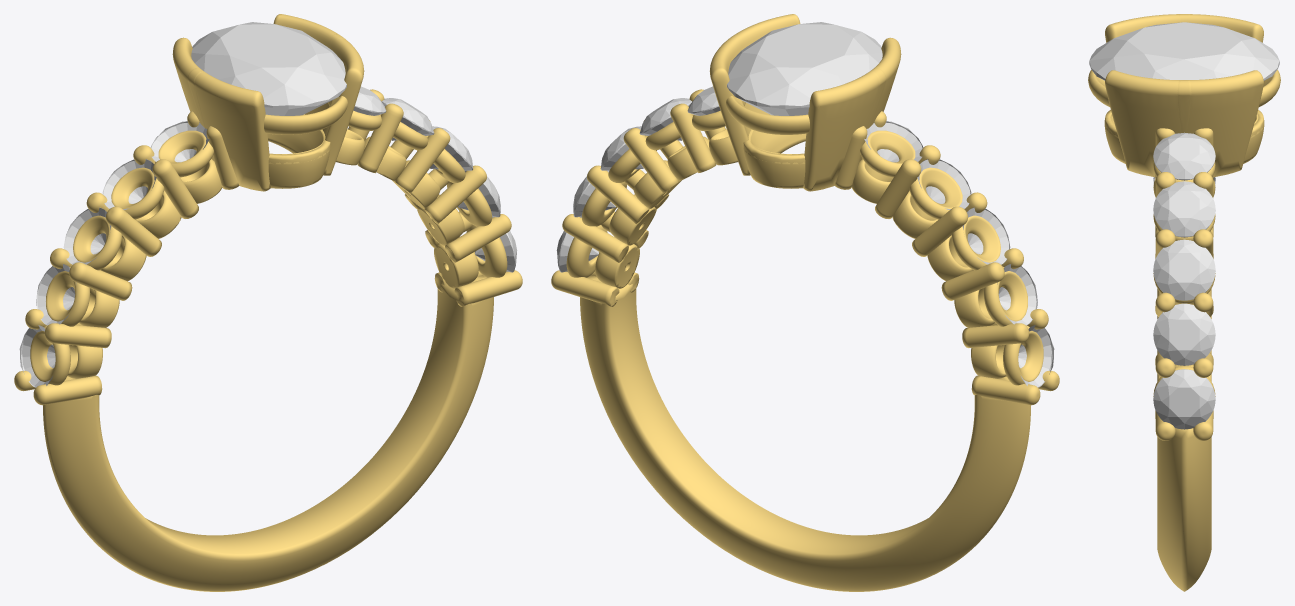
Rendered from diamond-oval-yellowgold-halfmoonbezel-knifeedge-11stone.glb.
The picture shows the model from 3 angles, left to right: view 1: azimuth 30°, elevation 25°; view 2: azimuth 150°, elevation 25°; view 3: azimuth 270°, elevation 25°; orthographic projection. The views are drawn at different scales.
Visible parts, largest first — view 1: metal, stone.003, side.032, side.033, side.031, side.034, side.030, side.038; view 2: metal, stone.003, side.032, side.033, side.031, side.034, side.030, side.038; view 3: metal, stone.003, side.036, side.037, side.035, side.038, side.039.
Boxes of the visible parts, left/top/right/bottom form: metal: left=14, top=14, right=522, bottom=591; stone.003: left=191, top=22, right=346, bottom=115; side.032: left=63, top=207, right=111, bottom=264; side.033: left=102, top=159, right=156, bottom=209; side.031: left=36, top=264, right=76, bottom=325; side.034: left=150, top=121, right=209, bottom=162; side.030: left=19, top=325, right=55, bottom=387; side.038: left=382, top=98, right=434, bottom=140; metal: left=551, top=14, right=1059, bottom=591; stone.003: left=727, top=22, right=882, bottom=115; side.032: left=962, top=207, right=1010, bottom=264; side.033: left=917, top=159, right=971, bottom=209; side.031: left=997, top=264, right=1037, bottom=325; side.034: left=864, top=121, right=923, bottom=162; side.030: left=1018, top=325, right=1054, bottom=387; side.038: left=639, top=98, right=691, bottom=140; metal: left=1088, top=14, right=1280, bottom=591; stone.003: left=1089, top=22, right=1279, bottom=80; side.036: left=1153, top=303, right=1215, bottom=365; side.037: left=1153, top=239, right=1215, bottom=300; side.035: left=1153, top=369, right=1215, bottom=429; side.038: left=1153, top=181, right=1215, bottom=237; side.039: left=1153, top=132, right=1215, bottom=180.
Bounding box in the file's own units: 22.01 × 23.4 × 7.75.
